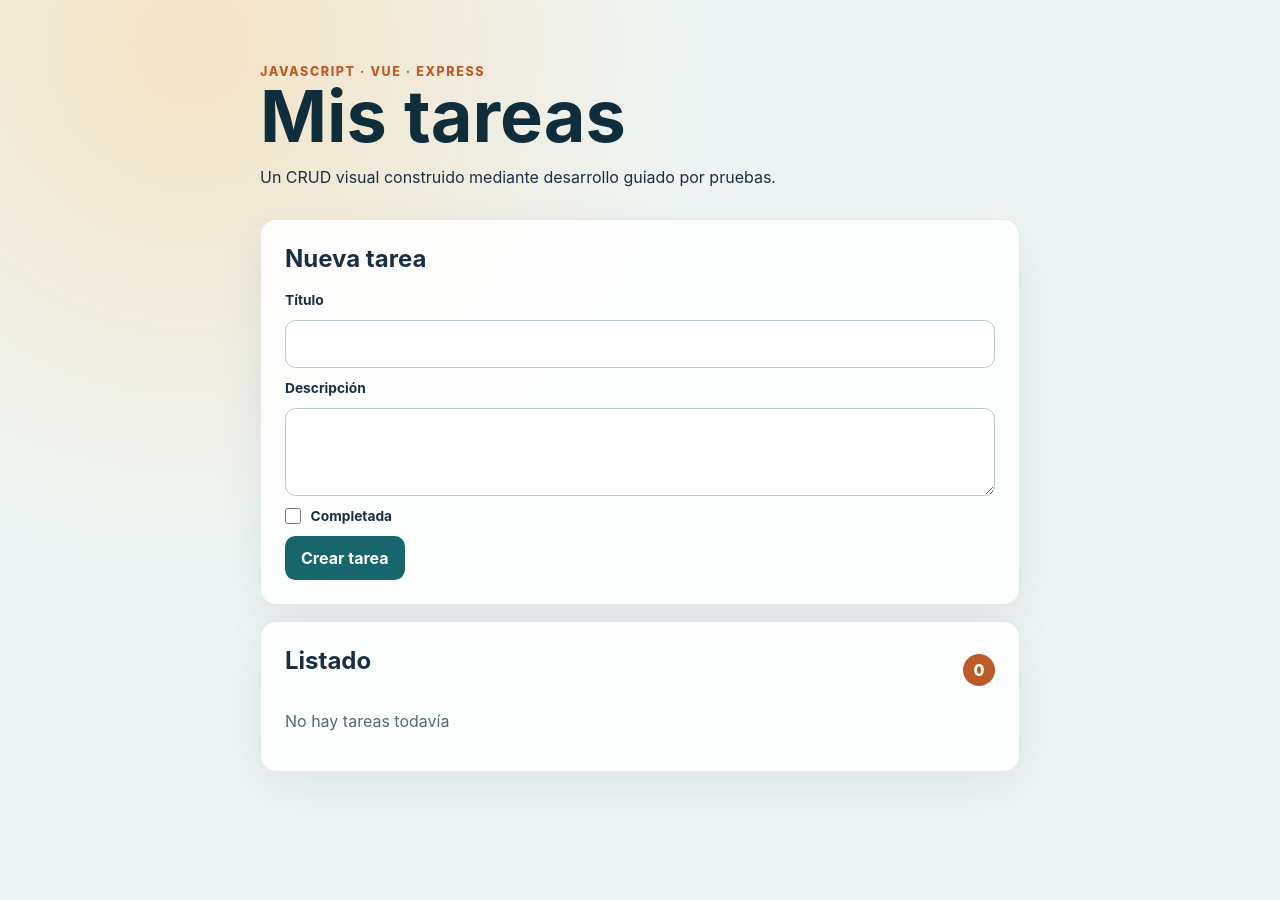
Test: Tasks application › creates a task from the form and adds it to the list
Type "Preparar exposición" into the field named "title".
click(640, 344); type("Preparar exposición")  # box 285,320 -> 995,368
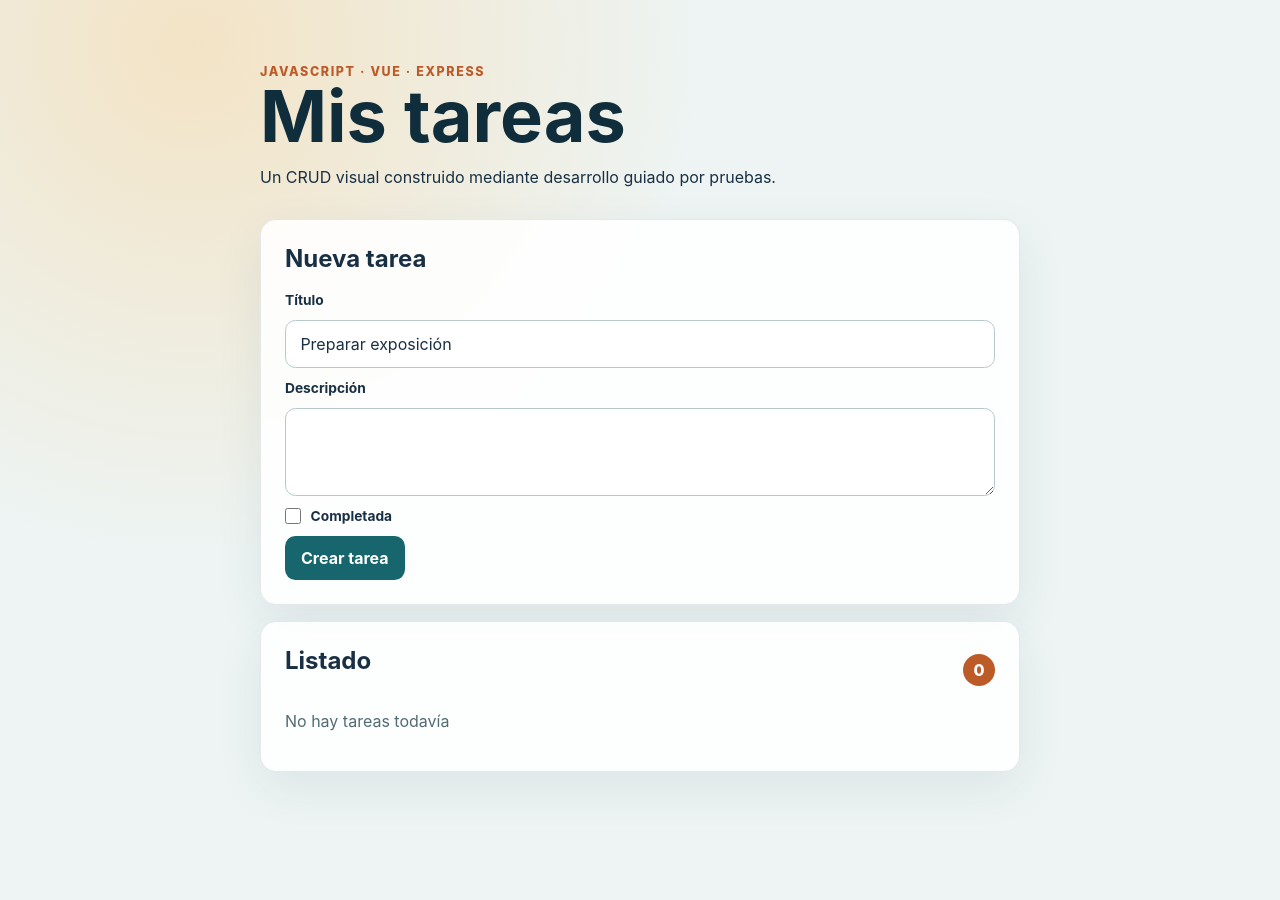
Type "Ensayar CRUD" into the text box named "description".
click(640, 452); type("Ensayar CRUD")  # box 285,408 -> 995,496
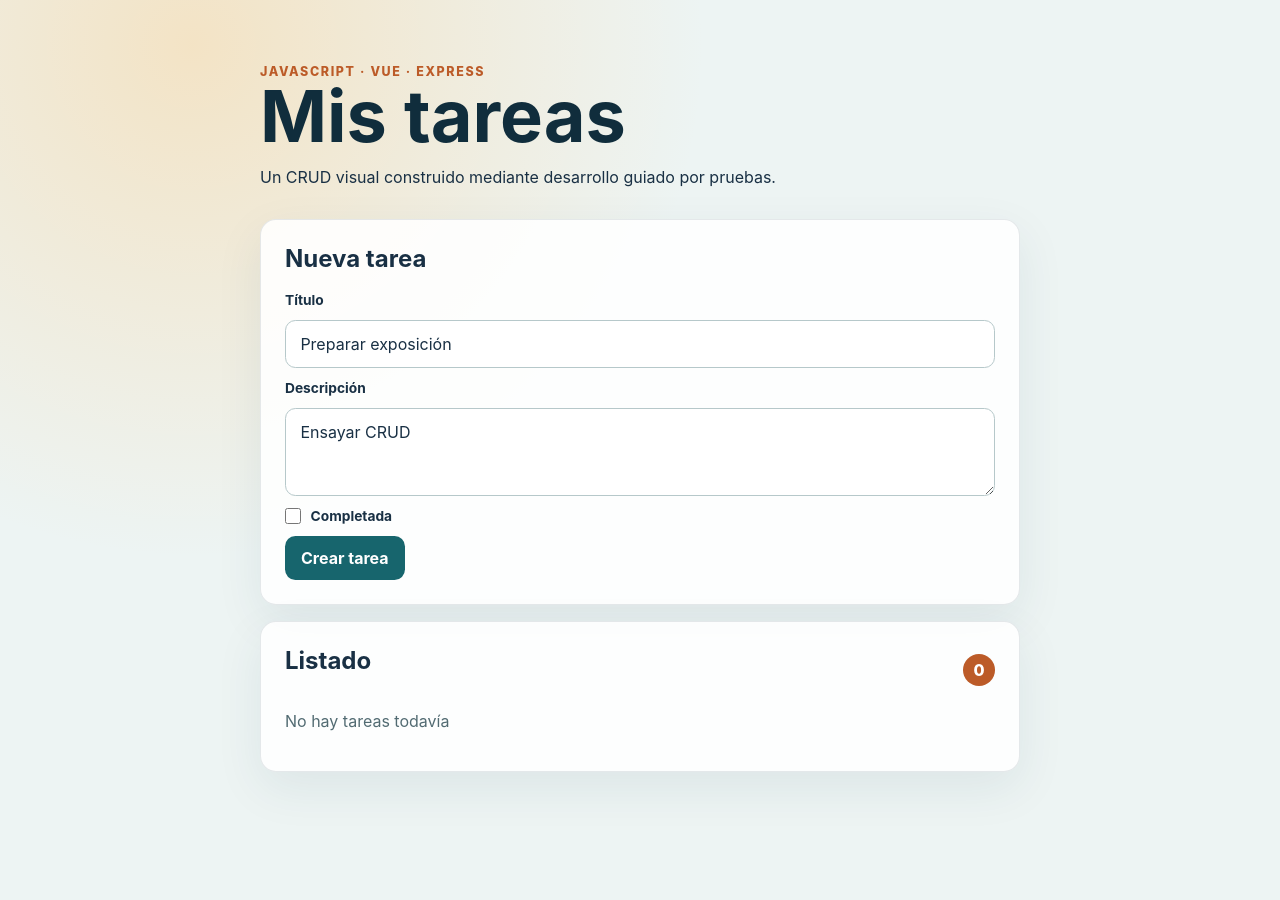
Submit the form, box 285,292 -> 995,580
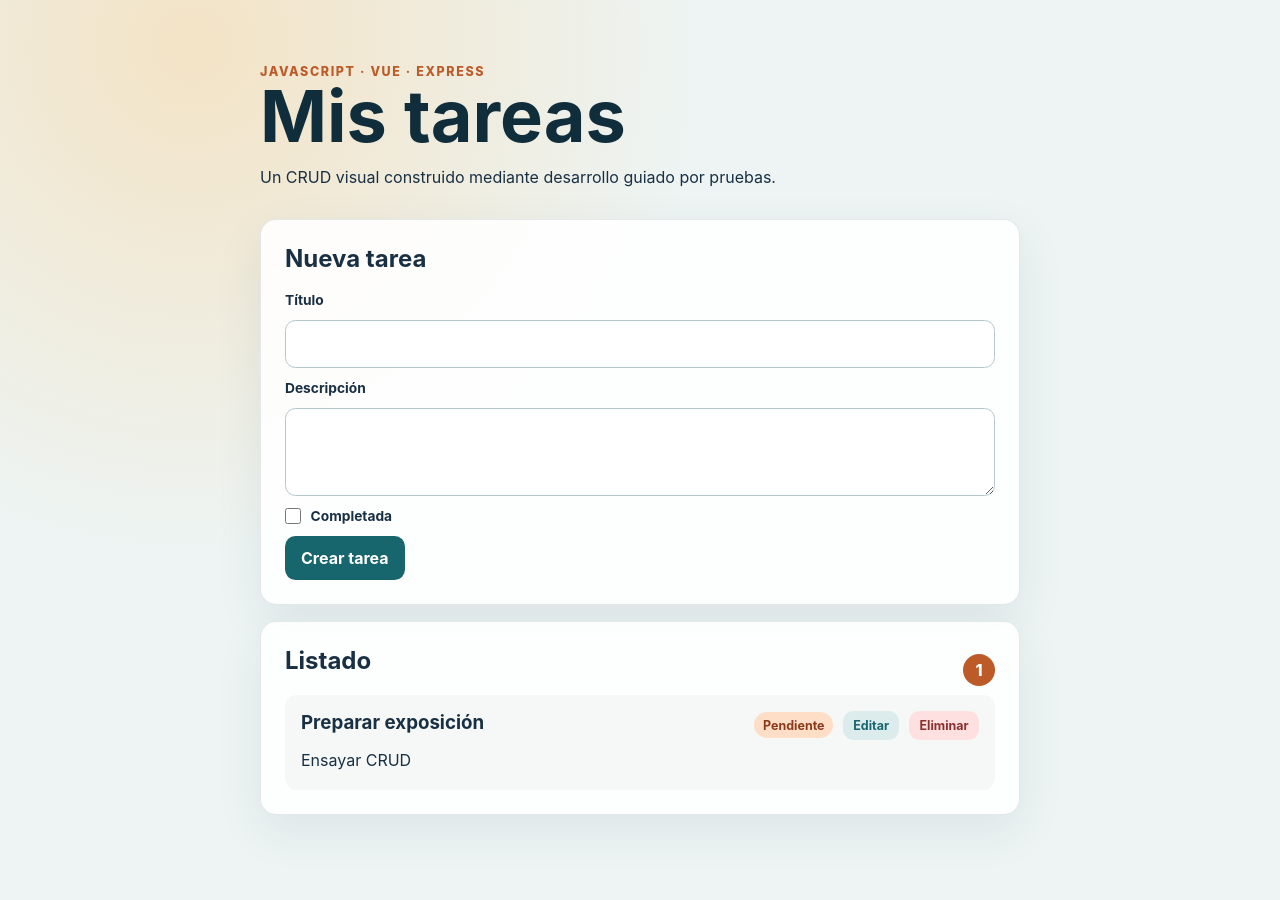
Check: the text "Preparar exposición" is shown, box 301,711 -> 484,734
Check: the field named "title" is empty, box 285,320 -> 995,368
